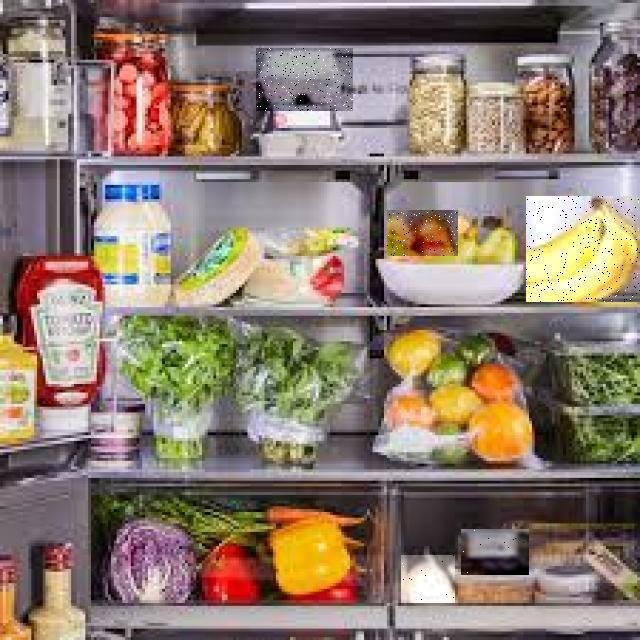Apple: (387, 210, 458, 256)
Banana: (526, 196, 640, 302)
Butter: (461, 529, 529, 575)
Cheese: (401, 555, 455, 603)
Eggs: (256, 48, 353, 111)
